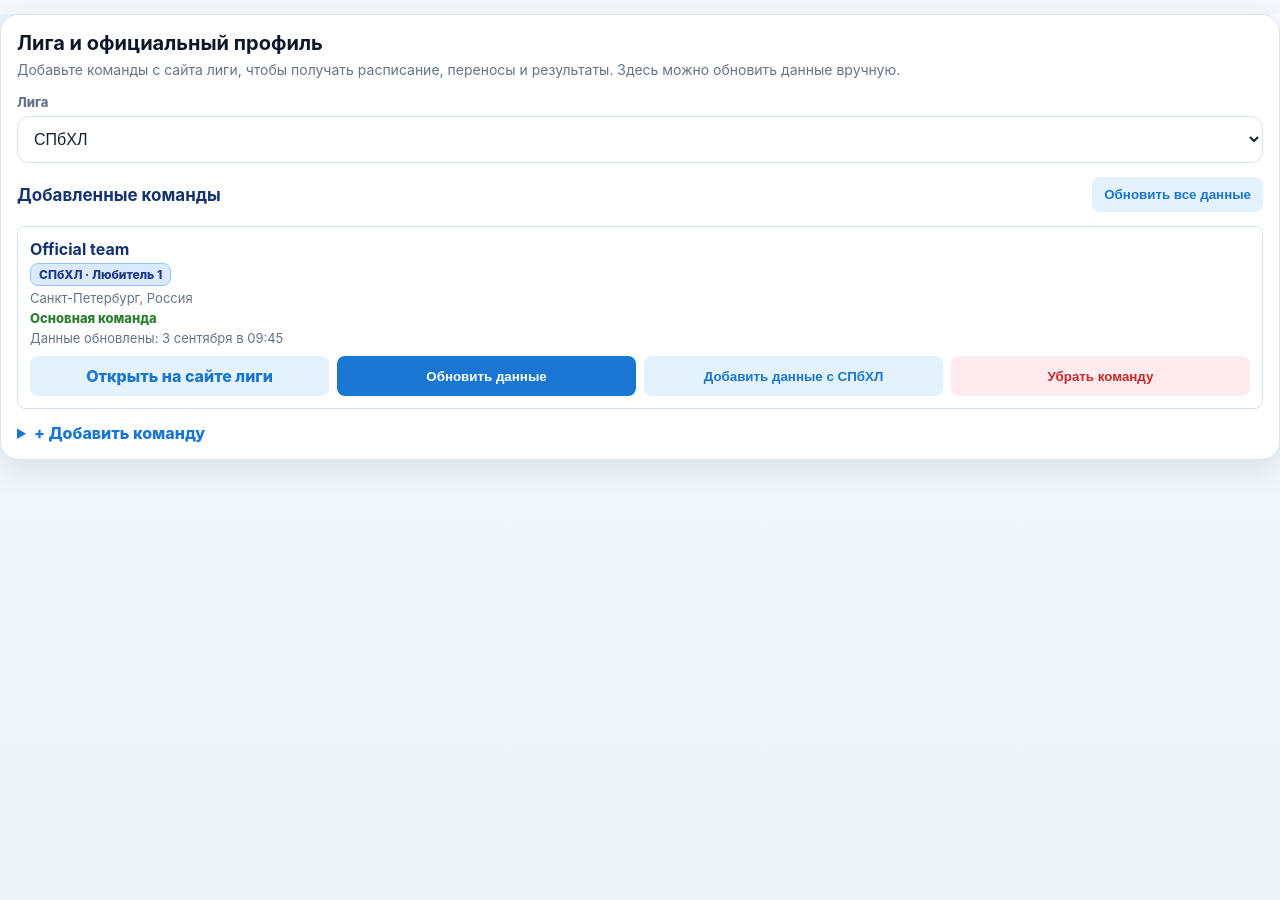
Test: marks existing structured candidates as disabled
The width and height of the screenshot is (1280, 900).
Click the button "Добавить данные с СПбХЛ". click: (794, 376)
box: [644,356,943,396]
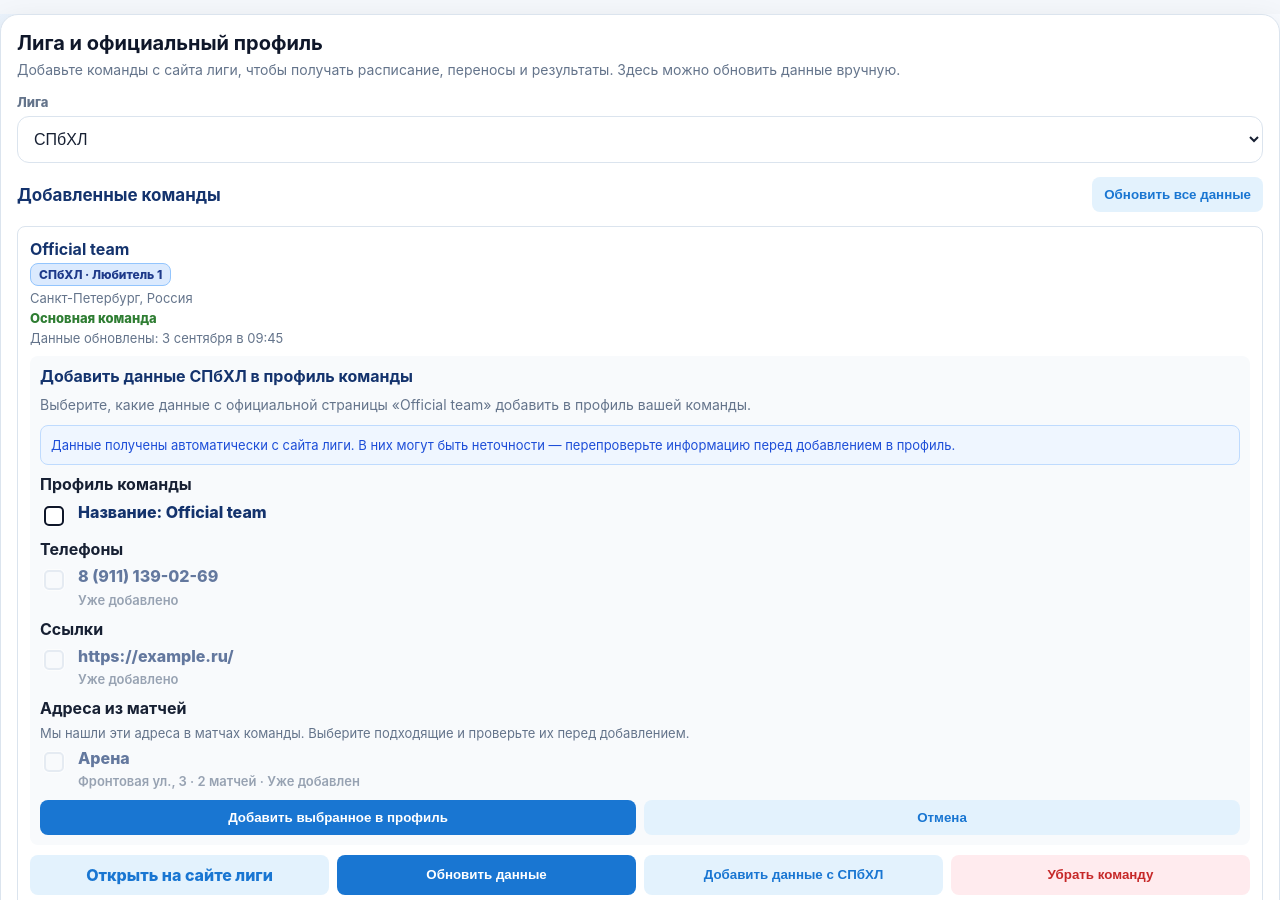
Result: the text "Фронтовая ул., 3 · 2 матчей · Уже добавлен" is shown at [78,773,360,791]
Result: the checkbox labelled "8 (911) 139-02-69 Уже добавлено" is disabled at [44,566,218,608]
Result: the checkbox labelled "https://example.ru/ Уже добавлено" is disabled at [44,646,234,687]
